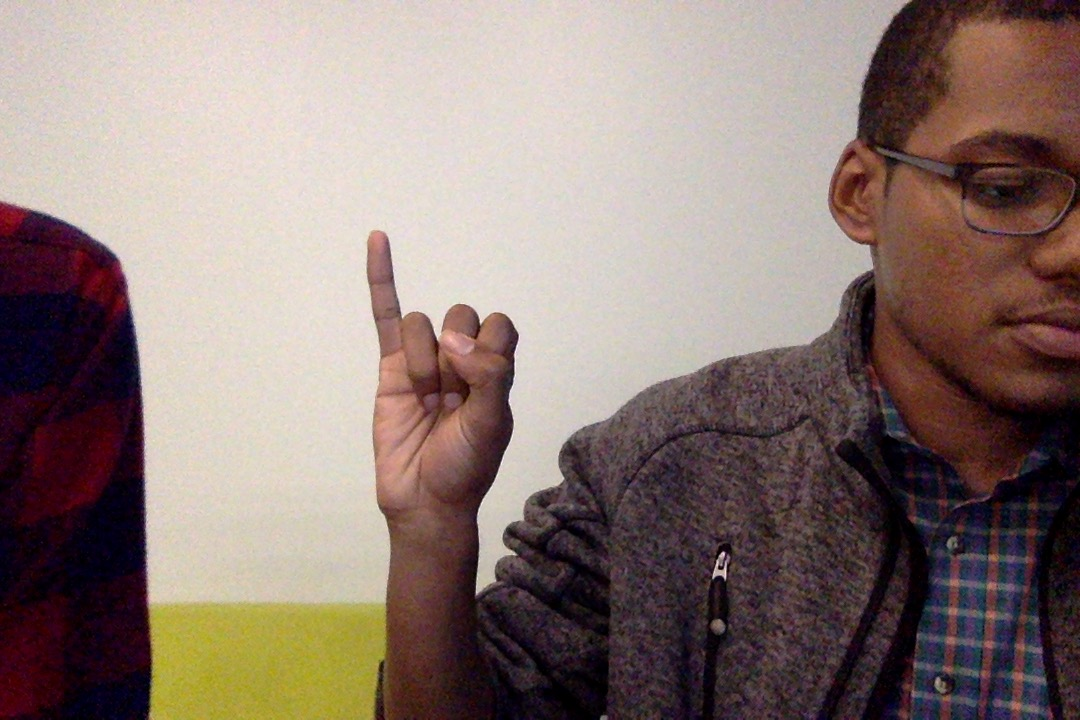i: (348, 216, 530, 538)
